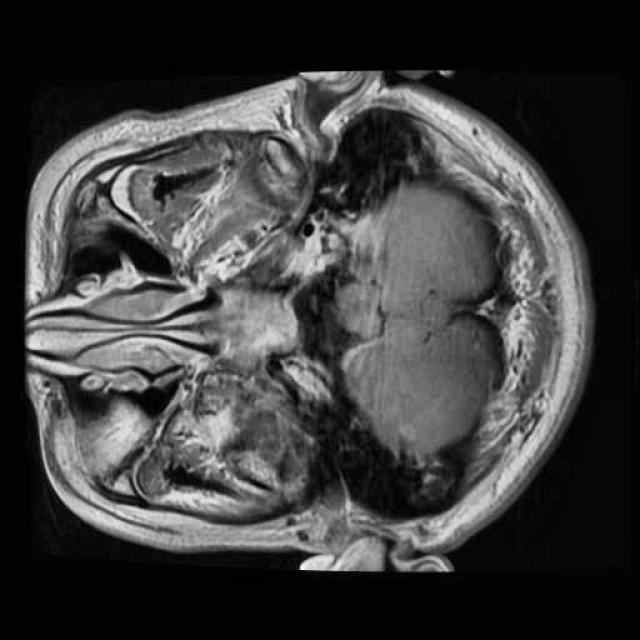Tumor: (203, 279, 306, 375)
